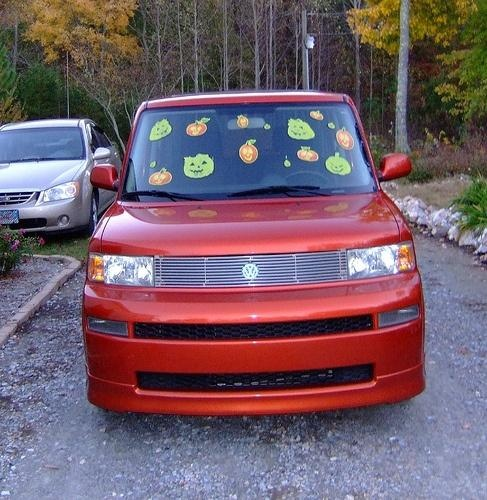car: (84, 93, 435, 426), (2, 113, 124, 250)
